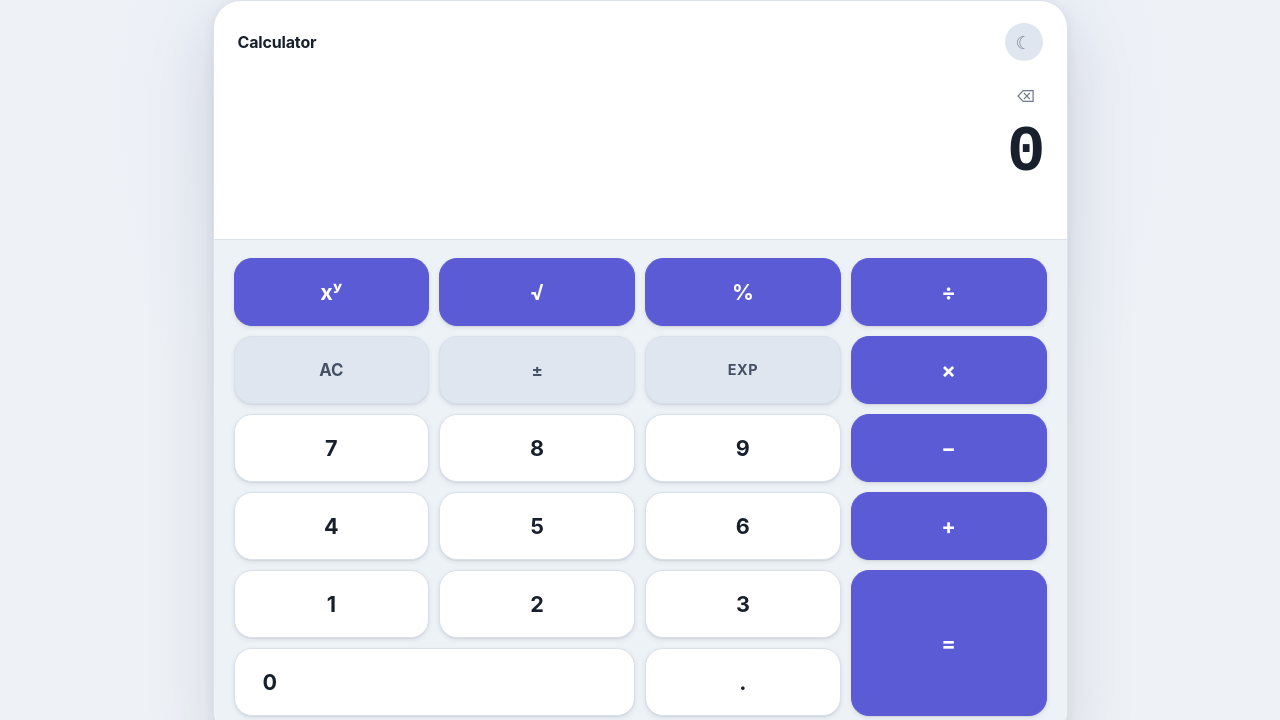
Test: Calculator › uses the backend for square root and percentage
Click the button "8" at (537, 448), box [439,414,635,482]
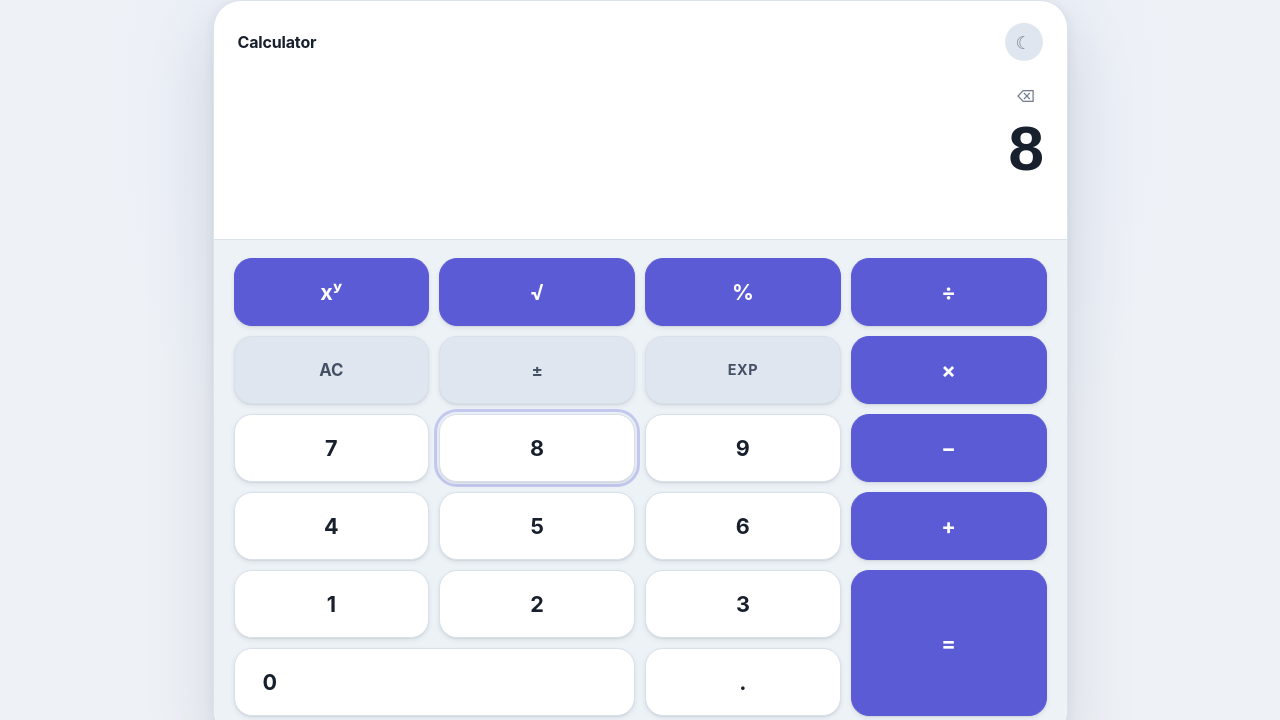
Click the button "1" at (331, 604), box [234,570,429,638]
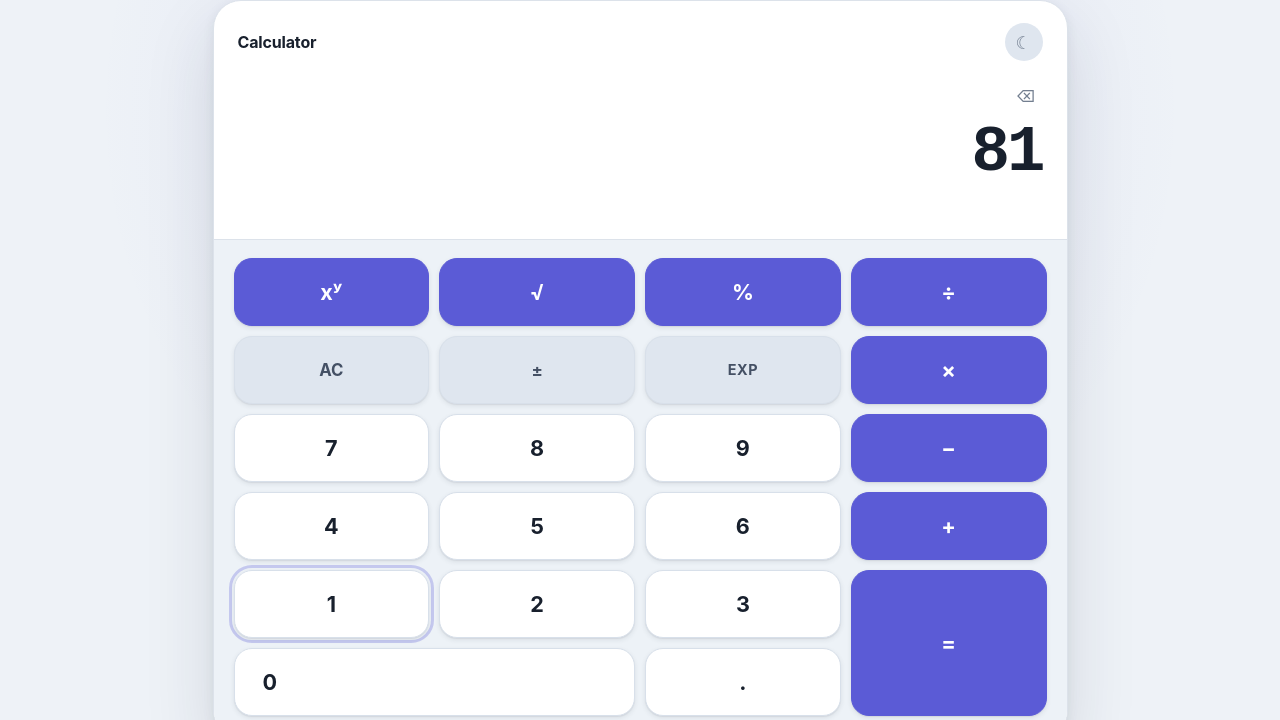
Click the button named "Square root" at (537, 292), box [439,258,635,326]
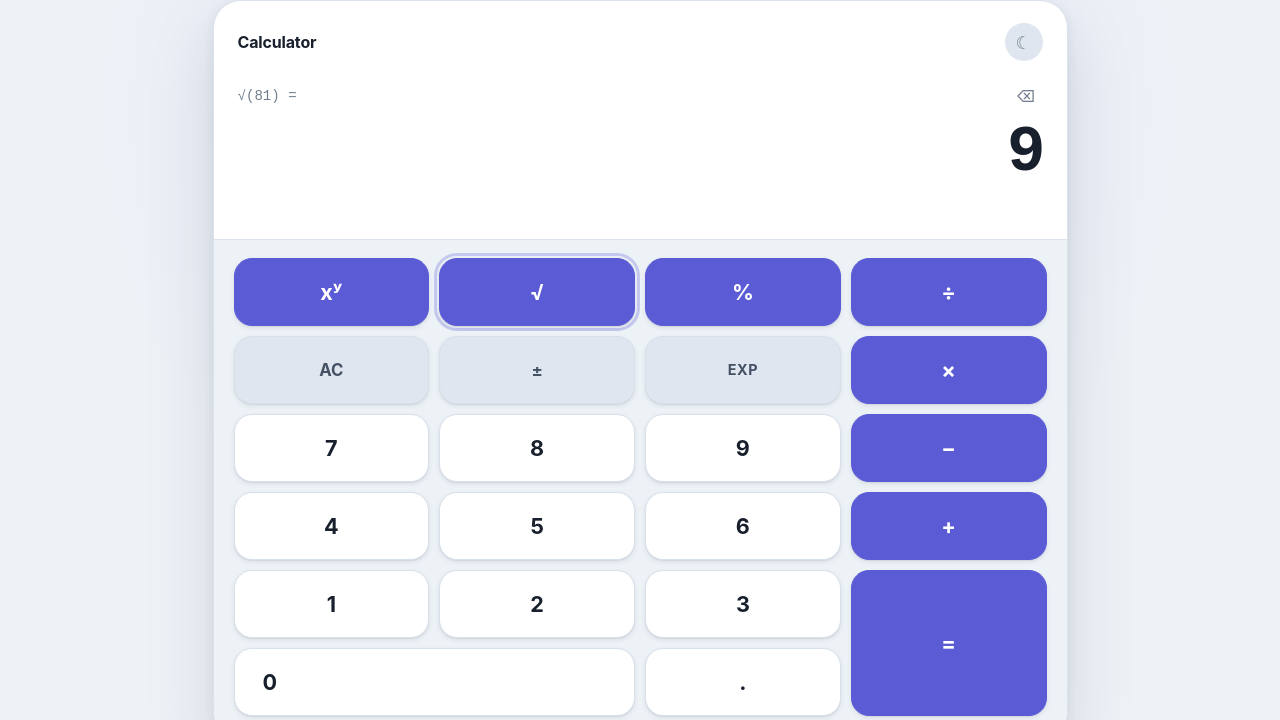
Check: the field named "Calculator display" holds "9", box [238,111,1042,193]
Click the button "2" at (537, 604), box [439,570,635,638]
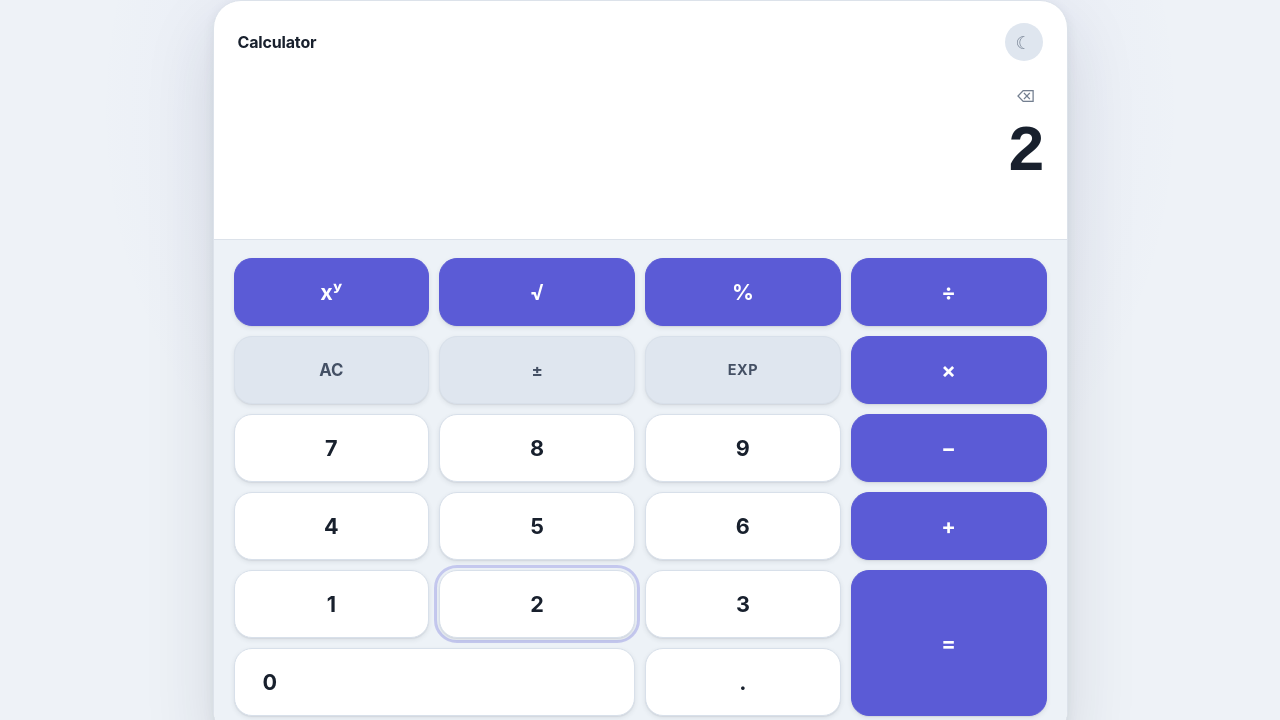
Click the button "5" at (537, 526), box [439,492,635,560]
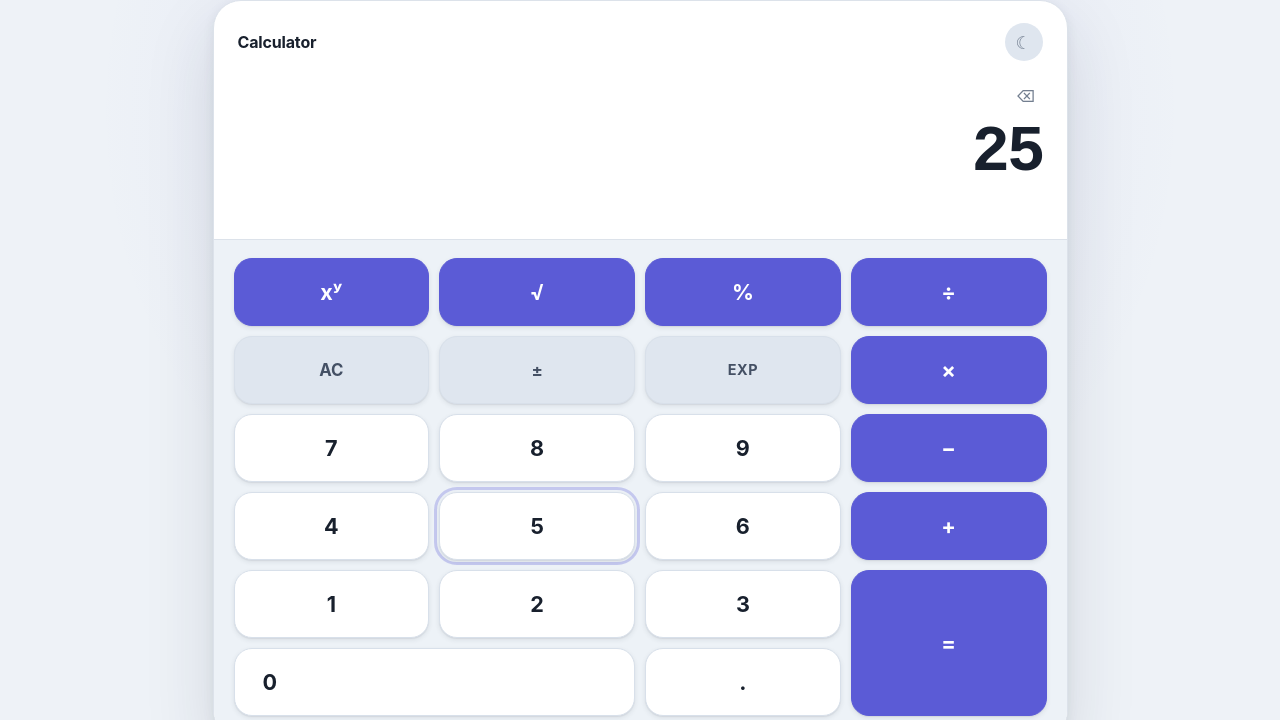
Click the button named "Percentage" at (743, 292), box [645,258,841,326]
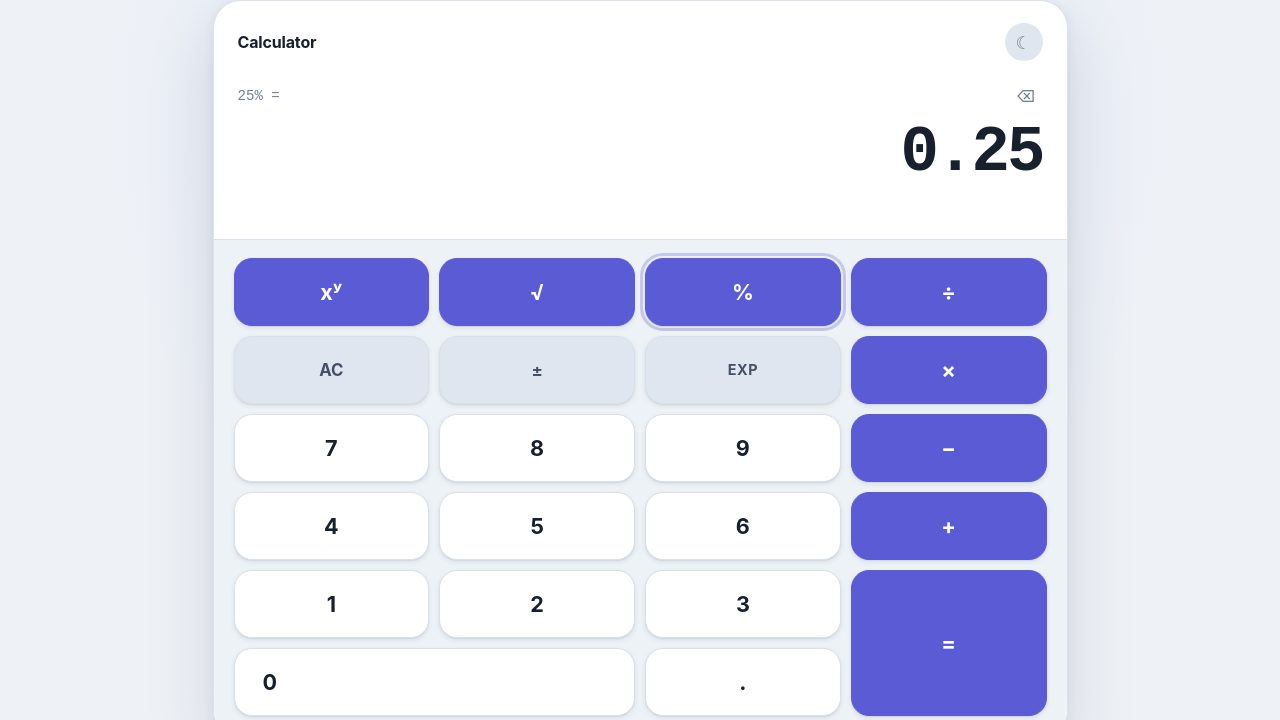
Check: the field named "Calculator display" holds "0.25", box [238,111,1042,193]
